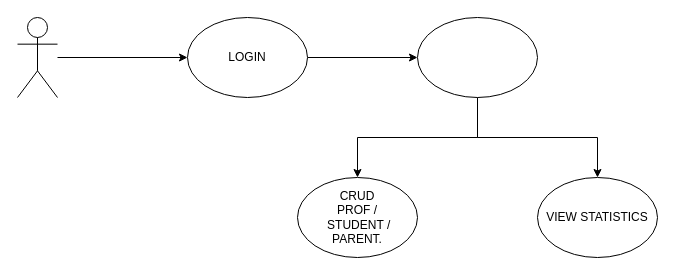
Some shapes in this 675 by 275 pixel diagram are drawn without their labels. Each missing label, with the centre of its shape:
"ADMIN" belongs at (x=37, y=57).
"DASHBOARD" belongs at (x=477, y=57).
